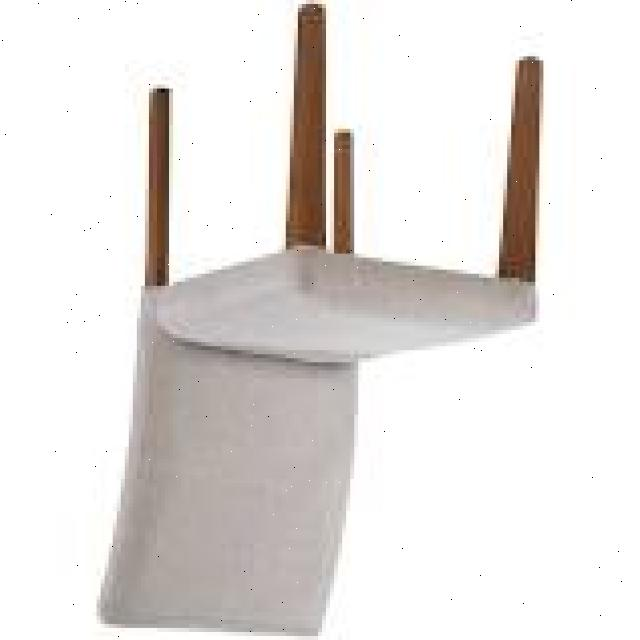bottle: (92, 5, 545, 636)
